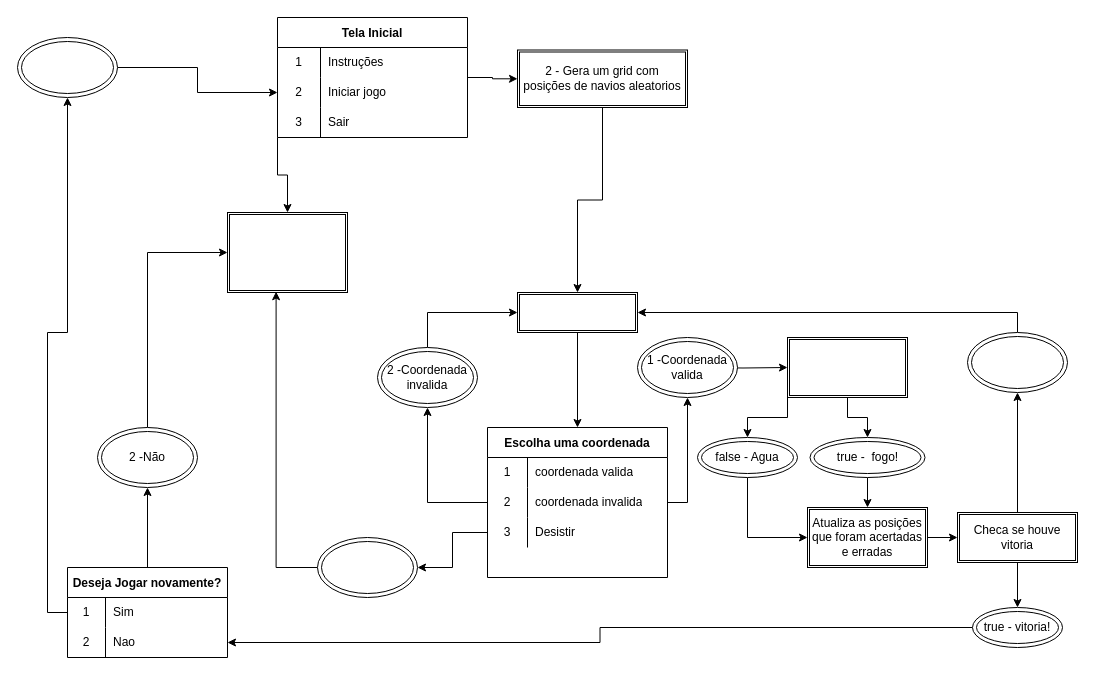
Image size: 1095x675. Some labels were removed from this diagram. Each missing label, with the centre of its shape:
1 - Sim: the point at 67,67
3 - Desistir: the point at 367,567
3 - Sair (fecha jogo): the point at 287,252
Checa se há um navio na coordenada: the point at 847,367
Desenha Tela do jogo: the point at 577,312
false - continue: the point at 1017,362
